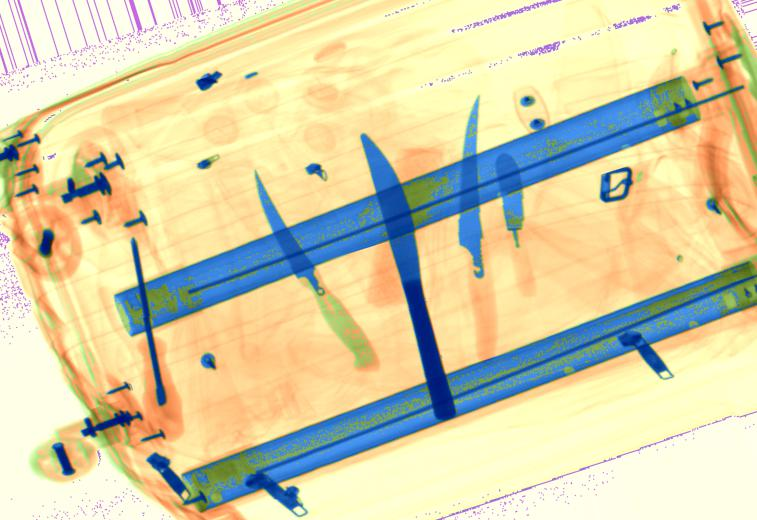Knife: (358, 132, 457, 422), (252, 169, 368, 373), (458, 94, 492, 287), (494, 153, 524, 267)
